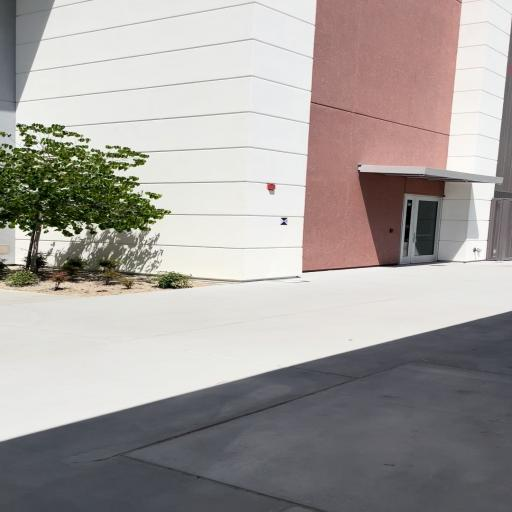target2: (280, 217, 289, 225)
